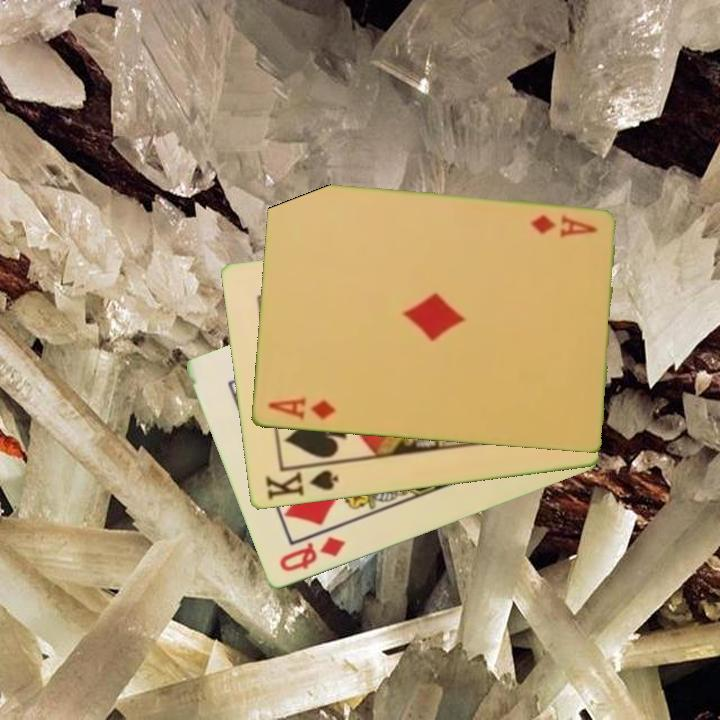Ad: (264, 394, 338, 424), (526, 211, 600, 241)
Ks: (262, 461, 341, 503)
Qd: (275, 533, 348, 575)
